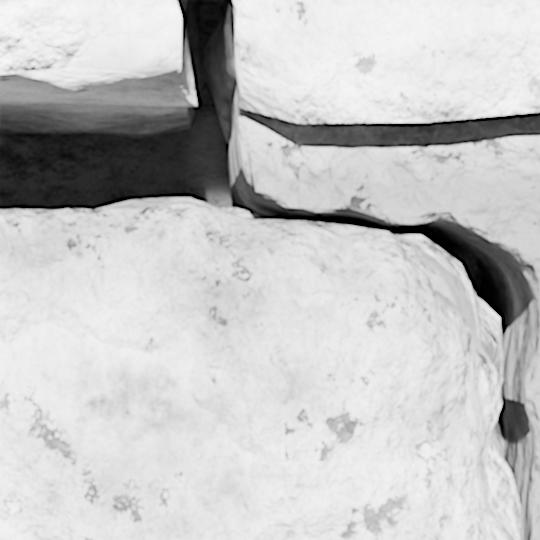brick: (0, 201, 521, 539)
broken_brick: (237, 0, 539, 123), (0, 0, 178, 91)
crack: (0, 0, 539, 539)
